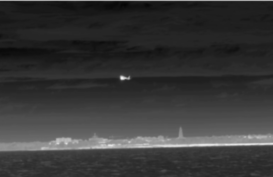Target: (121, 76, 130, 80)
